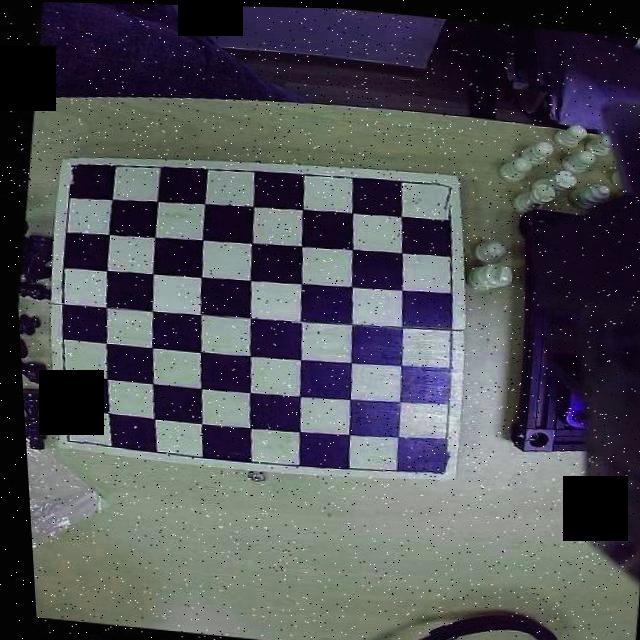chess-table-corners: (421, 172, 459, 207), (416, 444, 450, 478), (60, 153, 93, 184), (52, 423, 81, 448)
